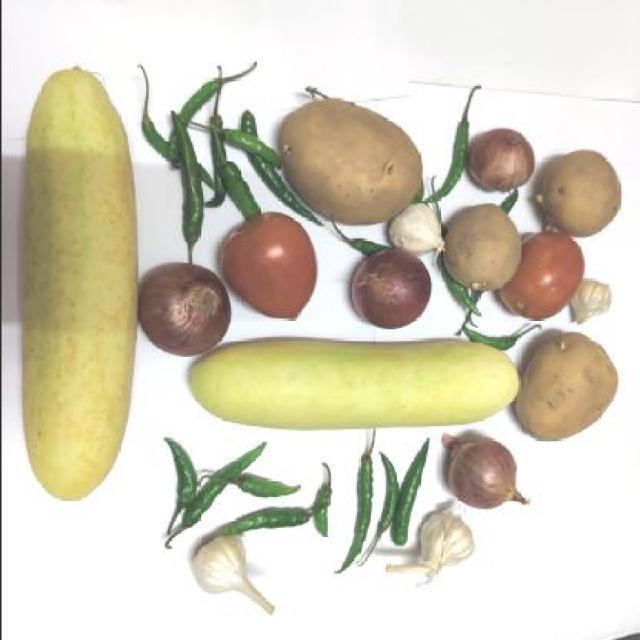Garlic: (386, 512, 477, 598), (191, 529, 277, 617), (386, 203, 448, 257), (566, 276, 616, 324)
Green Chili: (140, 51, 278, 208), (156, 437, 338, 545), (337, 439, 435, 558)
Onion: (436, 424, 534, 518), (338, 243, 436, 332), (138, 262, 230, 356)
Potato: (276, 88, 418, 224), (510, 326, 616, 448), (538, 140, 624, 236), (440, 200, 523, 296)
Tomato: (215, 208, 332, 330)
cucumber: (14, 53, 140, 516), (188, 332, 520, 434)
